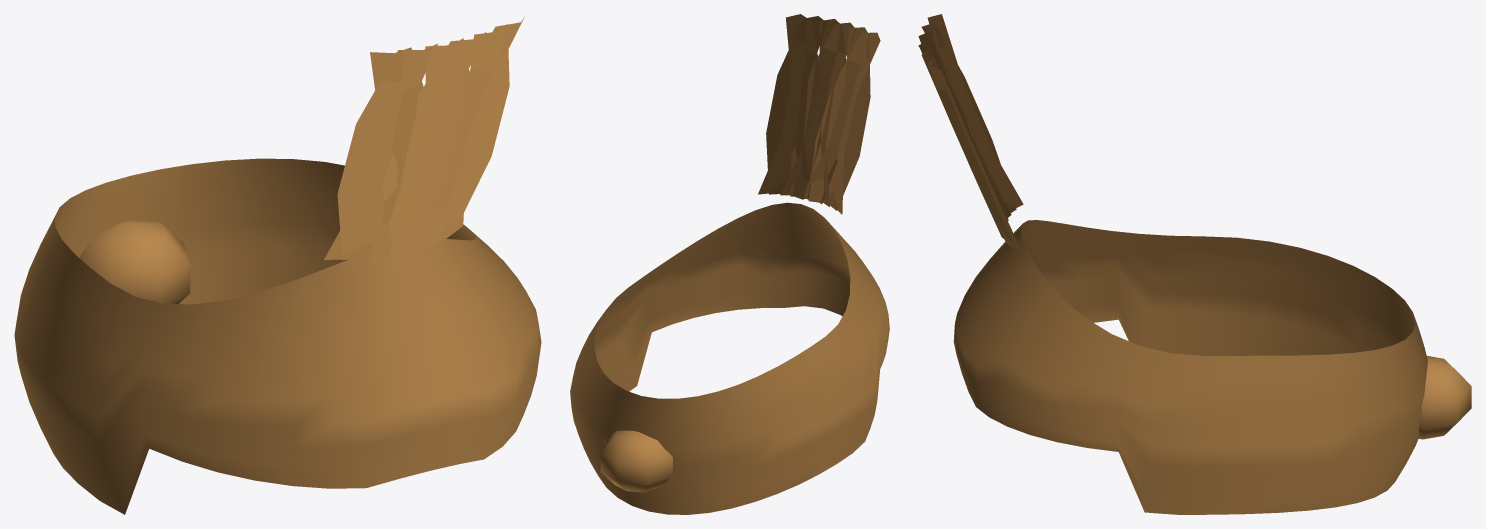
The model's file is gele_fan_f.glb.
3 views of the same model, side by side, from view 1: azimuth 30°, elevation 25°; view 2: azimuth 150°, elevation 25°; view 3: azimuth 270°, elevation 25° (orthographic). The views are drawn at different scales.
Parts seen in each view (by area): view 1: hair; view 2: hair; view 3: hair.
Part boxes in pixels (bbox=[...]): hair: bbox=[14, 15, 541, 514]; hair: bbox=[570, 14, 889, 514]; hair: bbox=[918, 14, 1471, 514].
Size of the model in its own units: 0.2022 by 0.2599 by 0.3023.
